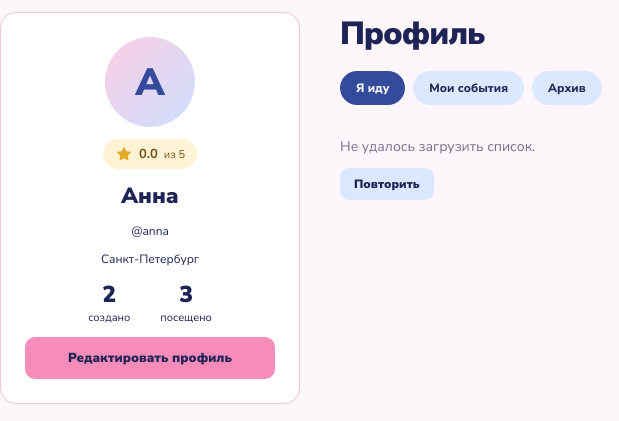
Test: повторяет загрузку списка настоящим кликом после ошибки
Click the button "Повторить" at (387, 184), box [340,168,434,200]
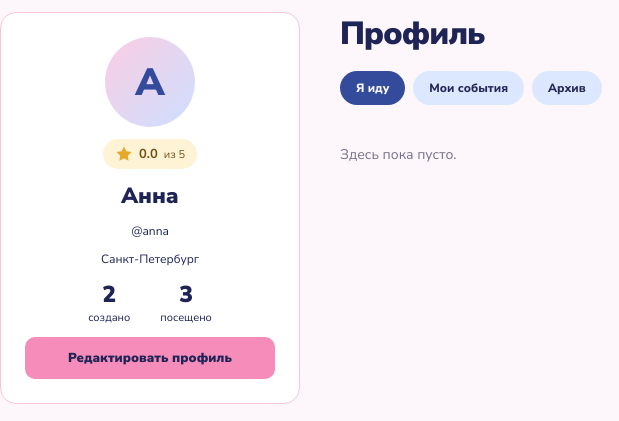
Expected: the text "Здесь пока пусто" is shown, [340,145,456,164]
